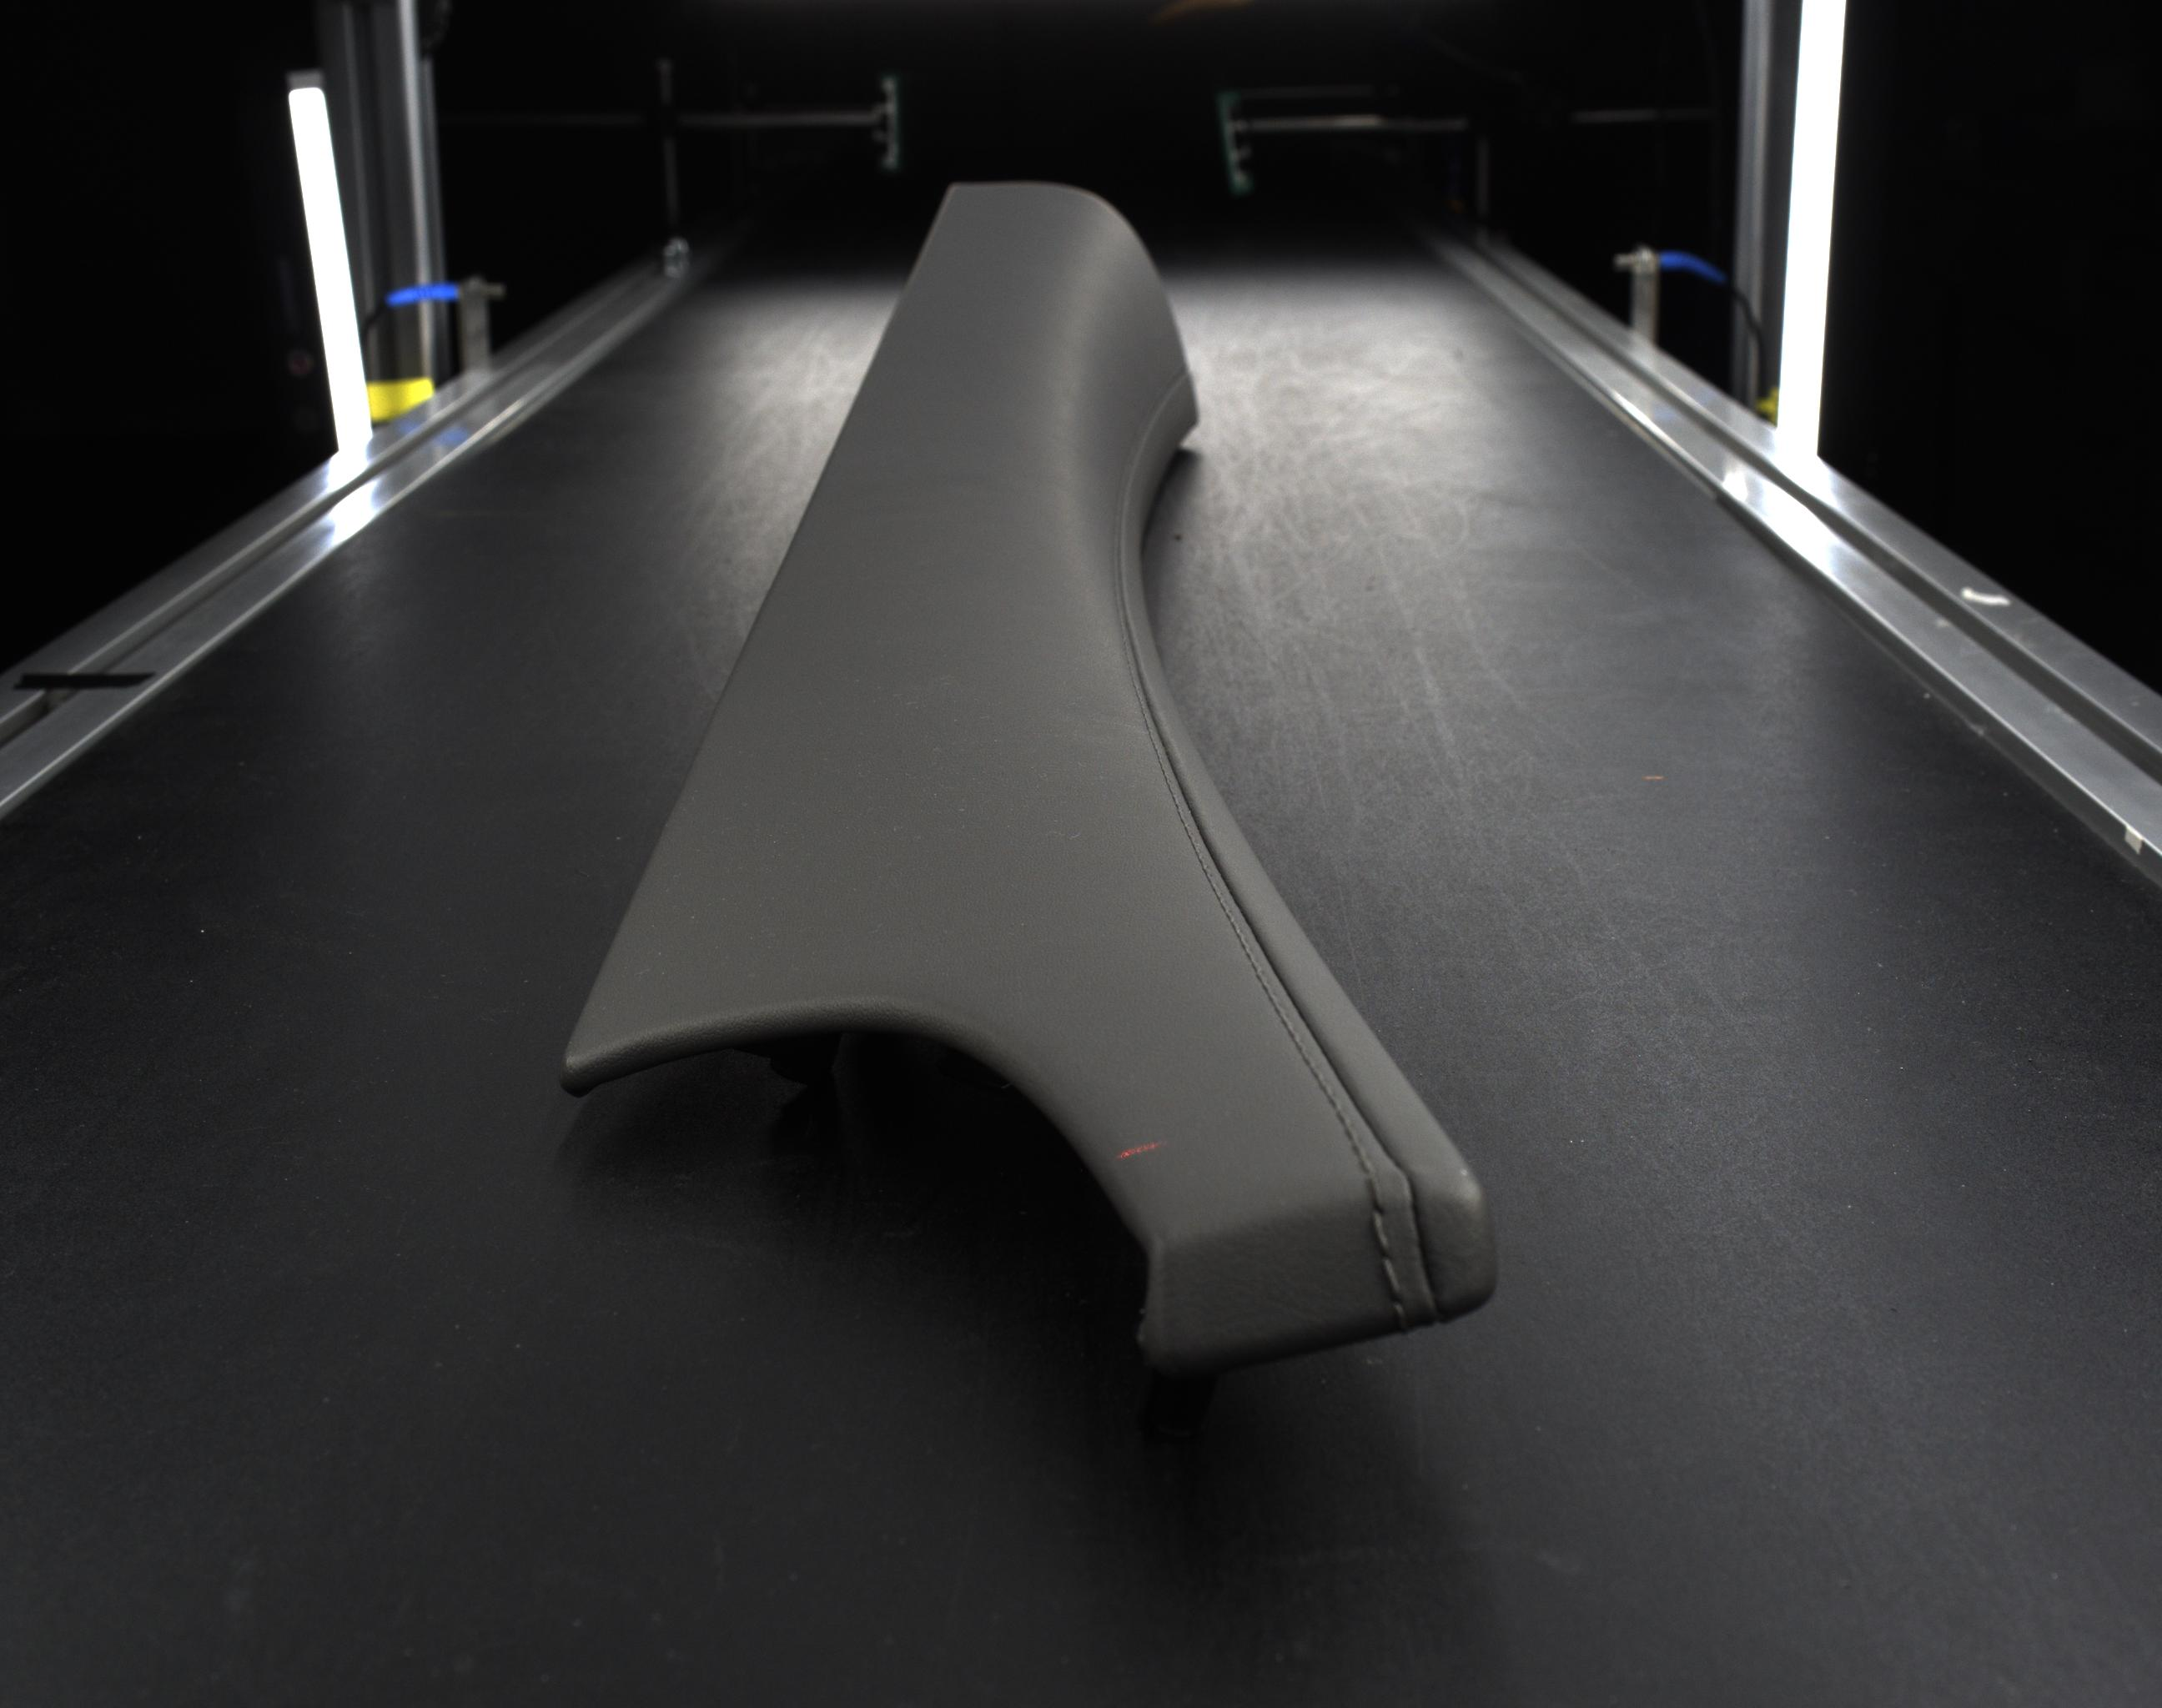vline: (1371, 1213, 1390, 1253), (1383, 1259, 1402, 1297), (1393, 1303, 1406, 1332)
